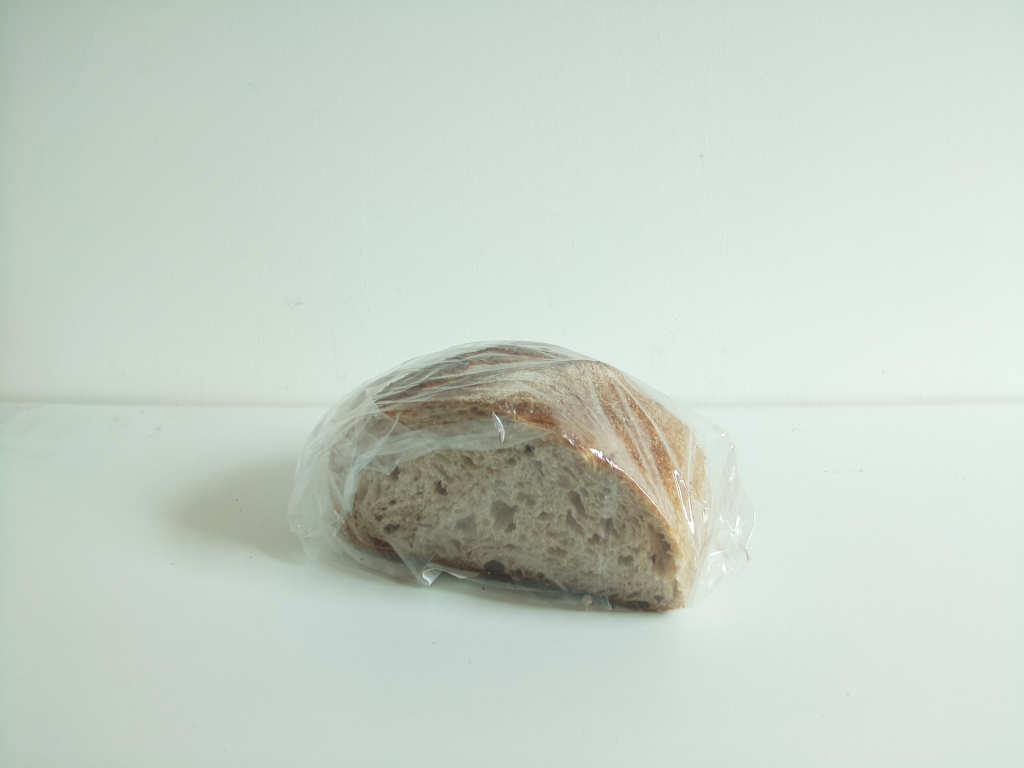bread: (329, 338, 712, 614)
